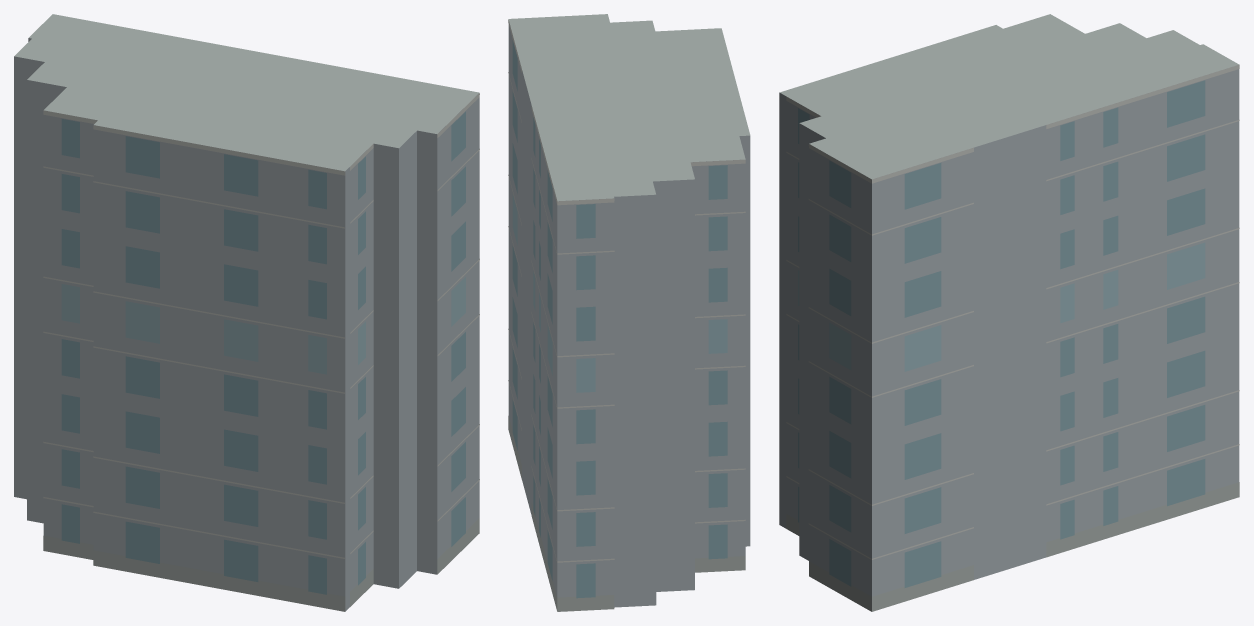
Rendered from survey-upis-32722994.glb.
The picture shows the model from 3 angles, left to right: view 1: azimuth 30°, elevation 25°; view 2: azimuth 150°, elevation 25°; view 3: azimuth 270°, elevation 25°; orthographic projection. The views are drawn at different scales.
Parts seen in each view (by area): view 1: survey-upis-32722994.tmp; view 2: survey-upis-32722994.tmp; view 3: survey-upis-32722994.tmp.
Part boxes in pixels (x1,y1,x2,y2): survey-upis-32722994.tmp: (14,14,479,611); survey-upis-32722994.tmp: (508,14,750,611); survey-upis-32722994.tmp: (779,14,1239,611).
Bounding box in the file's own units: 20.04 × 24.4 × 23.54.
